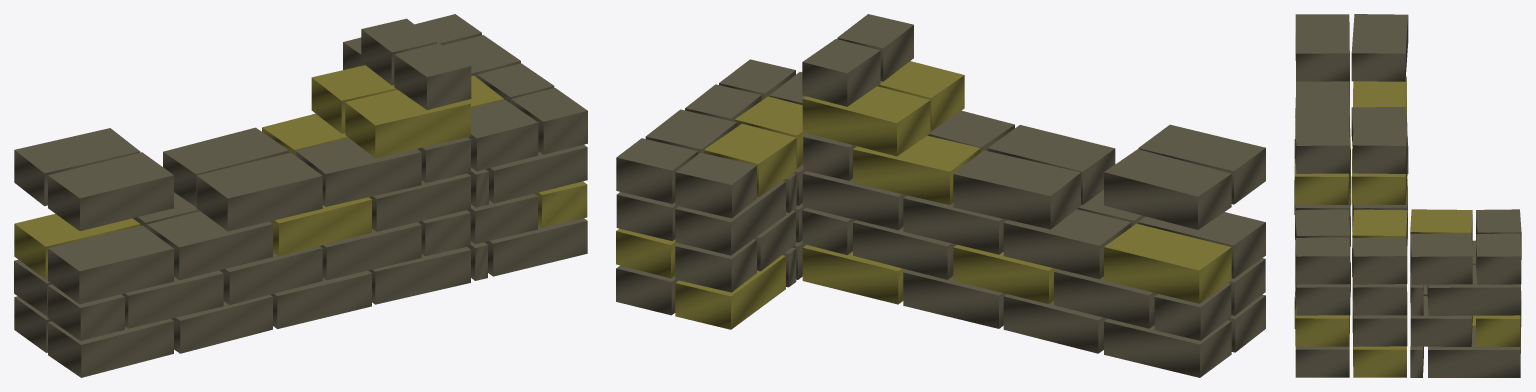
Rendered from SM_SacosRemateEspejo_v2_Irregular_e0_Sano_LOD0.fbx.
3 renders of one model, left to right at view 1: azimuth 30°, elevation 25°; view 2: azimuth 150°, elevation 25°; view 3: azimuth 270°, elevation 25°, orthographic. The views are drawn at different scales.
Visible parts, largest first — view 1: SM_sacos_piezas_v28_LOD0; view 2: SM_sacos_piezas_v28_LOD0; view 3: SM_sacos_piezas_v28_LOD0.
Part boxes in pixels (x1,y1,x2,y2): SM_sacos_piezas_v28_LOD0: (14, 14, 587, 377); SM_sacos_piezas_v28_LOD0: (616, 14, 1265, 377); SM_sacos_piezas_v28_LOD0: (1294, 14, 1521, 377).
Size of the model in its own units: 4.38 by 1.77 by 1.98.
